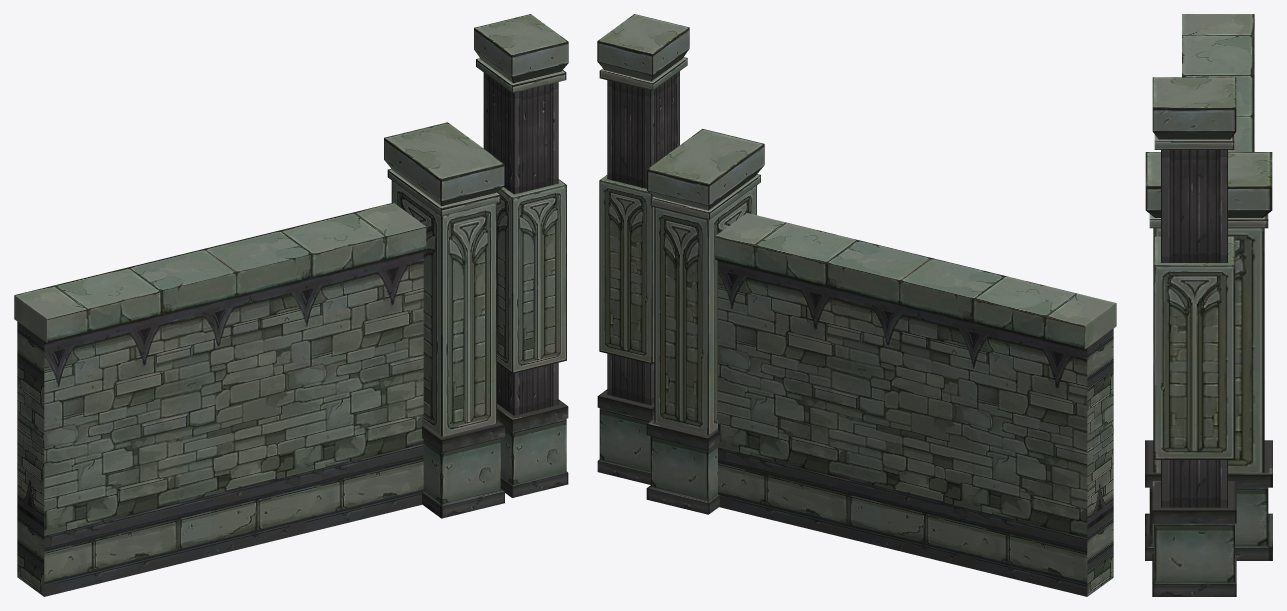
The model's file is 2_WGJ_WeiQiang_01.FBX.
3 views of the same model, side by side, from view 1: azimuth 30°, elevation 25°; view 2: azimuth 150°, elevation 25°; view 3: azimuth 270°, elevation 25° (orthographic). The views are drawn at different scales.
Parts seen in each view (by area): view 1: 2_WGJ_WeiQiang_01_01, 2_WGJ_WeiQiang_01_03, 2_WGJ_WeiQiang_01_02; view 2: 2_WGJ_WeiQiang_01_01, 2_WGJ_WeiQiang_01_03, 2_WGJ_WeiQiang_01_02; view 3: 2_WGJ_WeiQiang_01_03, 2_WGJ_WeiQiang_01_02, 2_WGJ_WeiQiang_01_01.
Part boxes in pixels (x1,y1,x2,y2): 2_WGJ_WeiQiang_01_01: (14, 202, 426, 596); 2_WGJ_WeiQiang_01_03: (474, 14, 568, 497); 2_WGJ_WeiQiang_01_02: (384, 122, 504, 518); 2_WGJ_WeiQiang_01_01: (715, 213, 1116, 596); 2_WGJ_WeiQiang_01_03: (597, 14, 689, 484); 2_WGJ_WeiQiang_01_02: (646, 129, 764, 514); 2_WGJ_WeiQiang_01_03: (1152, 77, 1236, 596); 2_WGJ_WeiQiang_01_02: (1145, 152, 1272, 560); 2_WGJ_WeiQiang_01_01: (1182, 14, 1254, 151).
Size of the model in its own units: 1340 by 1116 by 264.
Materials: 2 (2 with a texture image).
